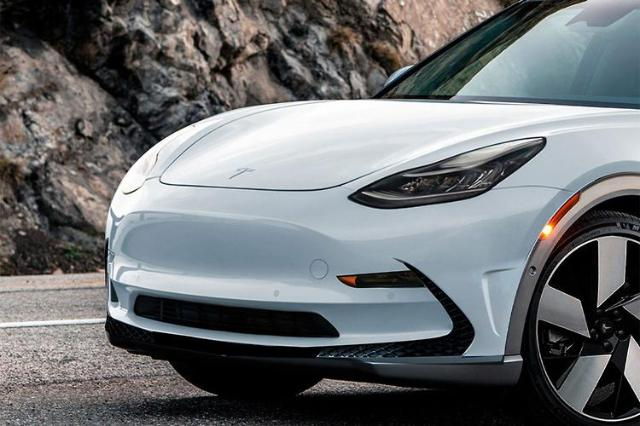tesla: (104, 0, 640, 426)
